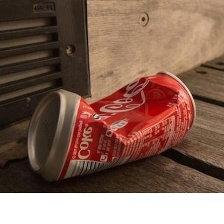can: (20, 69, 198, 184)
